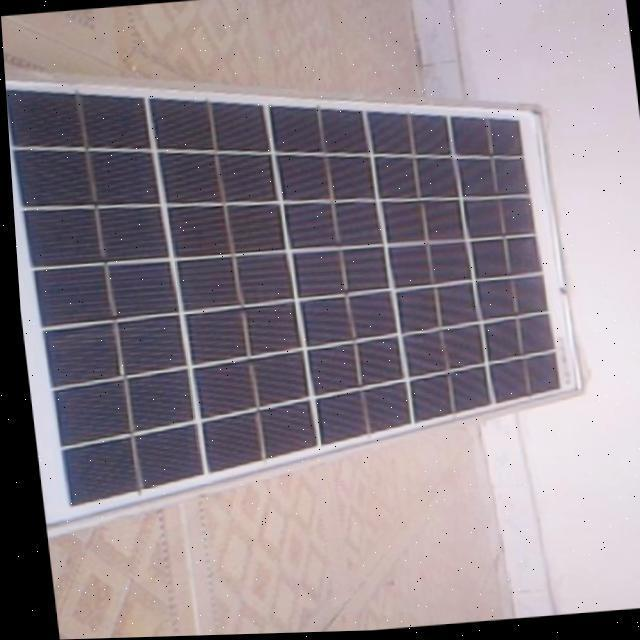Normal Solar Panel: (2, 33, 596, 539)
